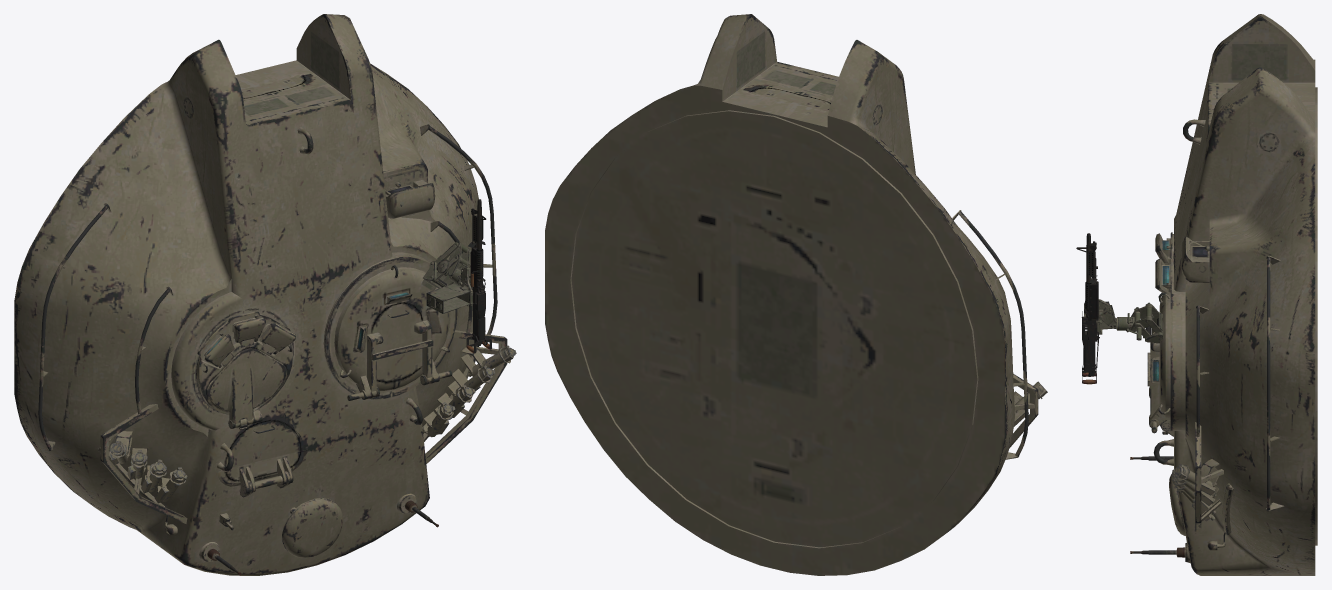
The model's file is Turret_01.glb.
3 views of the same model, side by side, from view 1: azimuth 30°, elevation 25°; view 2: azimuth 150°, elevation 25°; view 3: azimuth 270°, elevation 25° (orthographic). The views are drawn at different scales.
Parts seen in each view (by area): view 1: set_0_group_0; view 2: set_0_group_0; view 3: set_0_group_0.
Boxes of the visible parts, left/top/right/bottom form: set_0_group_0: left=14, top=14, right=516, bottom=575; set_0_group_0: left=545, top=14, right=1047, bottom=575; set_0_group_0: left=1076, top=14, right=1317, bottom=575.
Bounding box in the file's own units: 3.63 × 3.93 × 1.69.
Materials: 1 (1 with a texture image).
